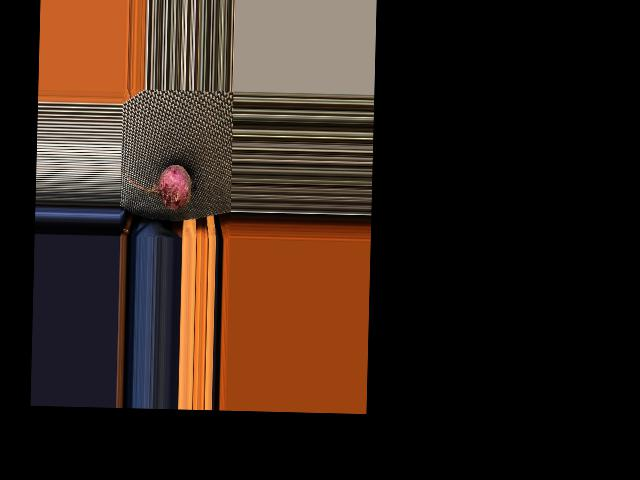beet: (125, 164, 198, 211)
